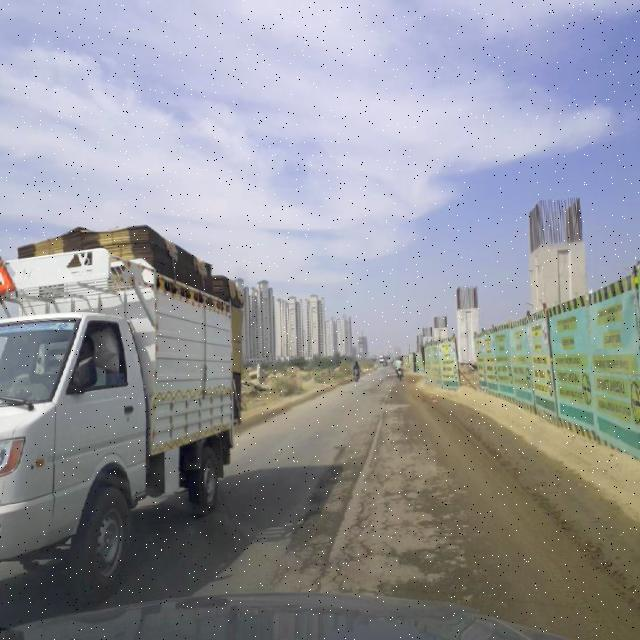D20: (259, 380, 482, 588)
